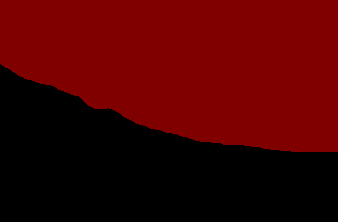Sky: (1, 1, 337, 151)
